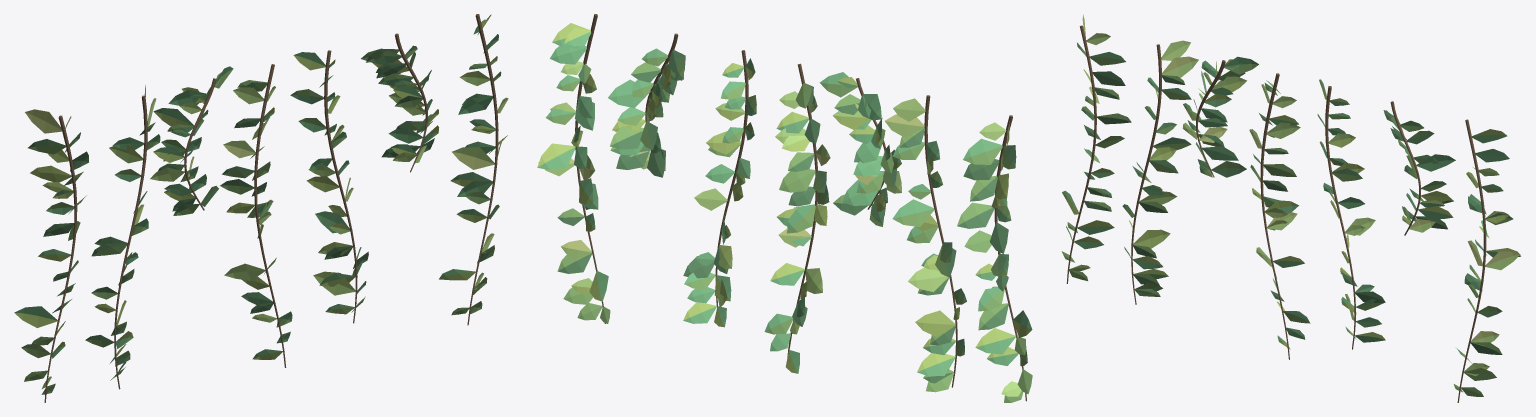
File: Ivy_02_Hanging.glb
The picture shows the model from 3 angles, left to right: view 1: azimuth 30°, elevation 25°; view 2: azimuth 150°, elevation 25°; view 3: azimuth 330°, elevation 25°; orthographic projection. The views are drawn at different scales.
Visible parts, largest first — view 1: Ivy_02_Hanging; view 2: Ivy_02_Hanging; view 3: Ivy_02_Hanging.
Part boxes in pixels (bbox=[...]): Ivy_02_Hanging: bbox=[14, 14, 508, 402]; Ivy_02_Hanging: bbox=[537, 14, 1032, 402]; Ivy_02_Hanging: bbox=[1061, 14, 1520, 402].
Size of the model in its own units: 2.39 by 1.45 by 0.1712.
